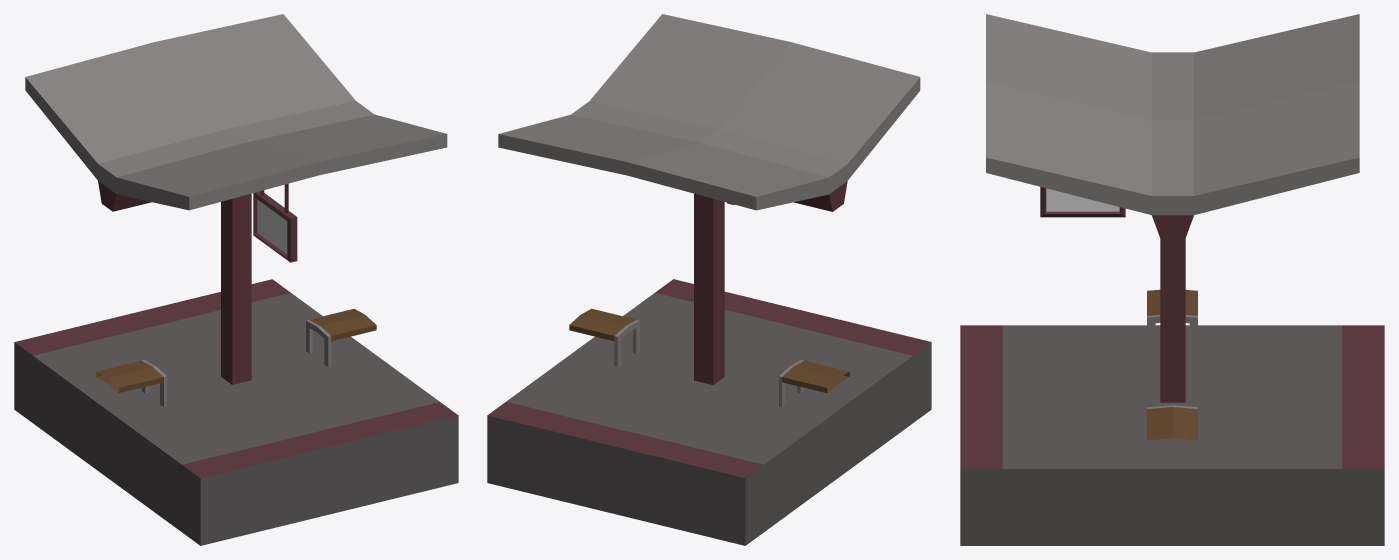
File: train-station-platform-sign-small.fbx
3 renders of one model, left to right at view 1: azimuth 30°, elevation 25°; view 2: azimuth 150°, elevation 25°; view 3: azimuth 270°, elevation 25°, orthographic. The views are drawn at different scales.
Parts seen in each view (by area): view 1: train-station-platform-sign-small; view 2: train-station-platform-sign-small; view 3: train-station-platform-sign-small.
Boxes of the visible parts, x1,y1,x2,y2 form: train-station-platform-sign-small: (14,14,458,545); train-station-platform-sign-small: (487,14,931,545); train-station-platform-sign-small: (960,14,1384,545).
Size of the model in its own units: 4 by 5.1 by 5.
